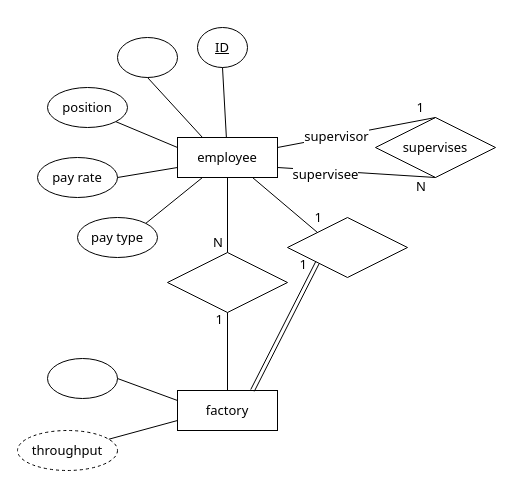
This 513x496 diagram has some shape labels left out. The centre of each missing label's shape, as x and y in pixels:
"city" goes at (82,378).
"manages" goes at (347,247).
"name" goes at (147,57).
"works at" goes at (227,282).
